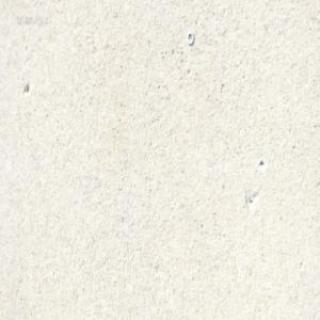Washertrack_idkeyframe: (186, 30, 194, 45)
